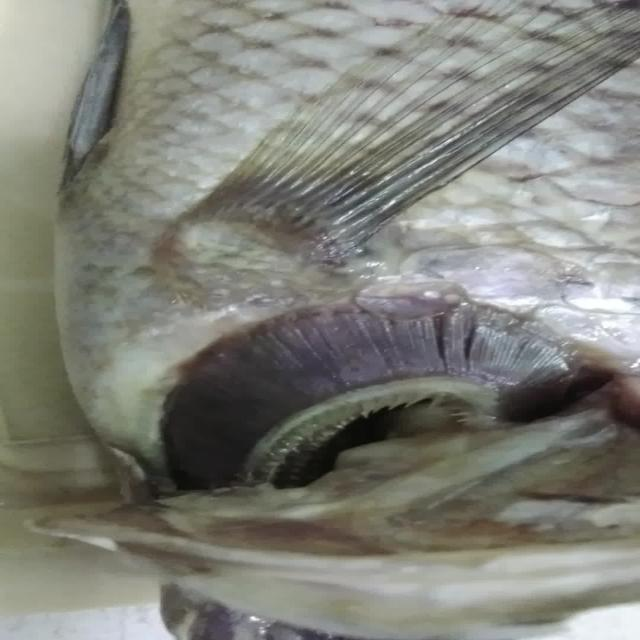Non-Fresh: (162, 294, 583, 452)
